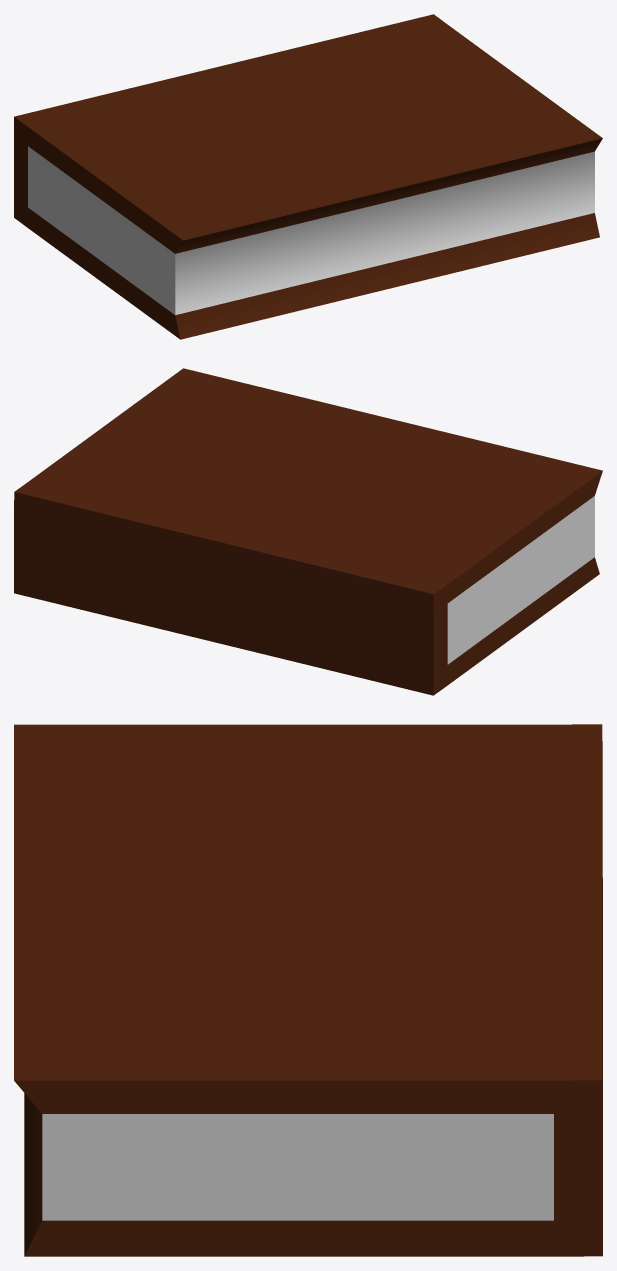
Rendered from textbook_v.fbx.
The picture shows the model from 3 angles, top to bottom: view 1: azimuth 30°, elevation 25°; view 2: azimuth 150°, elevation 25°; view 3: azimuth 270°, elevation 25°; orthographic projection. The views are drawn at different scales.
Parts seen in each view (by area): view 1: Cube; view 2: Cube; view 3: Cube.
Part boxes in pixels (<box>): Cube: <box>14,14,602,339</box>; Cube: <box>14,368,602,695</box>; Cube: <box>14,724,602,1256</box>.
Bounding box in the file's own units: 855 × 197 × 598.
